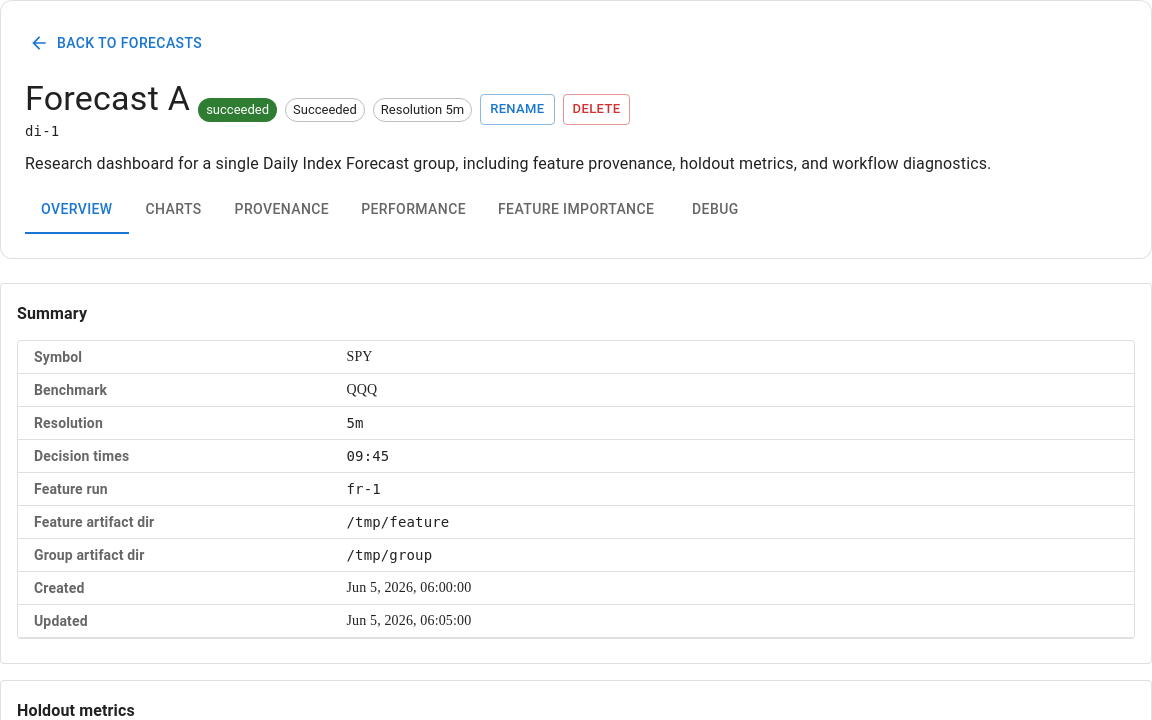
Test: DailyIndexForecastModelDetailPage charts tab › refreshes the detail payload and renders feature importance after the workflow finishes
Expected: the text "Resolution 5m" is shown, [374,100,471,119]
Click the tab "Feature Importance": {"x": 576, "y": 210} [482,186,670,234]
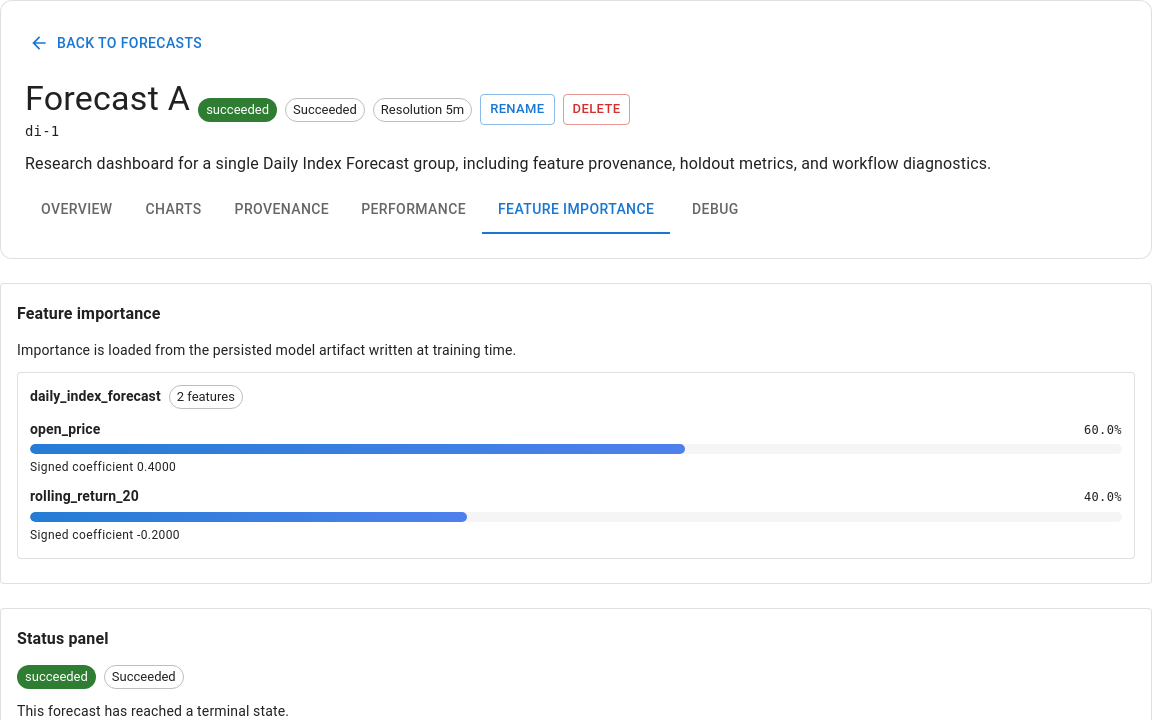
Now the heading "Feature importance" is shown, box [17,304,161,322]
Now the heading "daily_index_forecast" is shown, box [30,386,161,408]
Now the text "60.0%" is shown, box [1084,420,1122,440]
